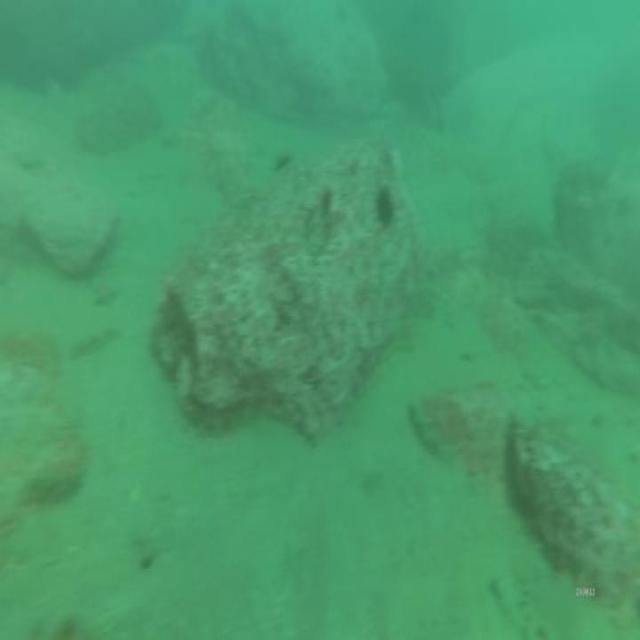echinus: (373, 182, 400, 235)
